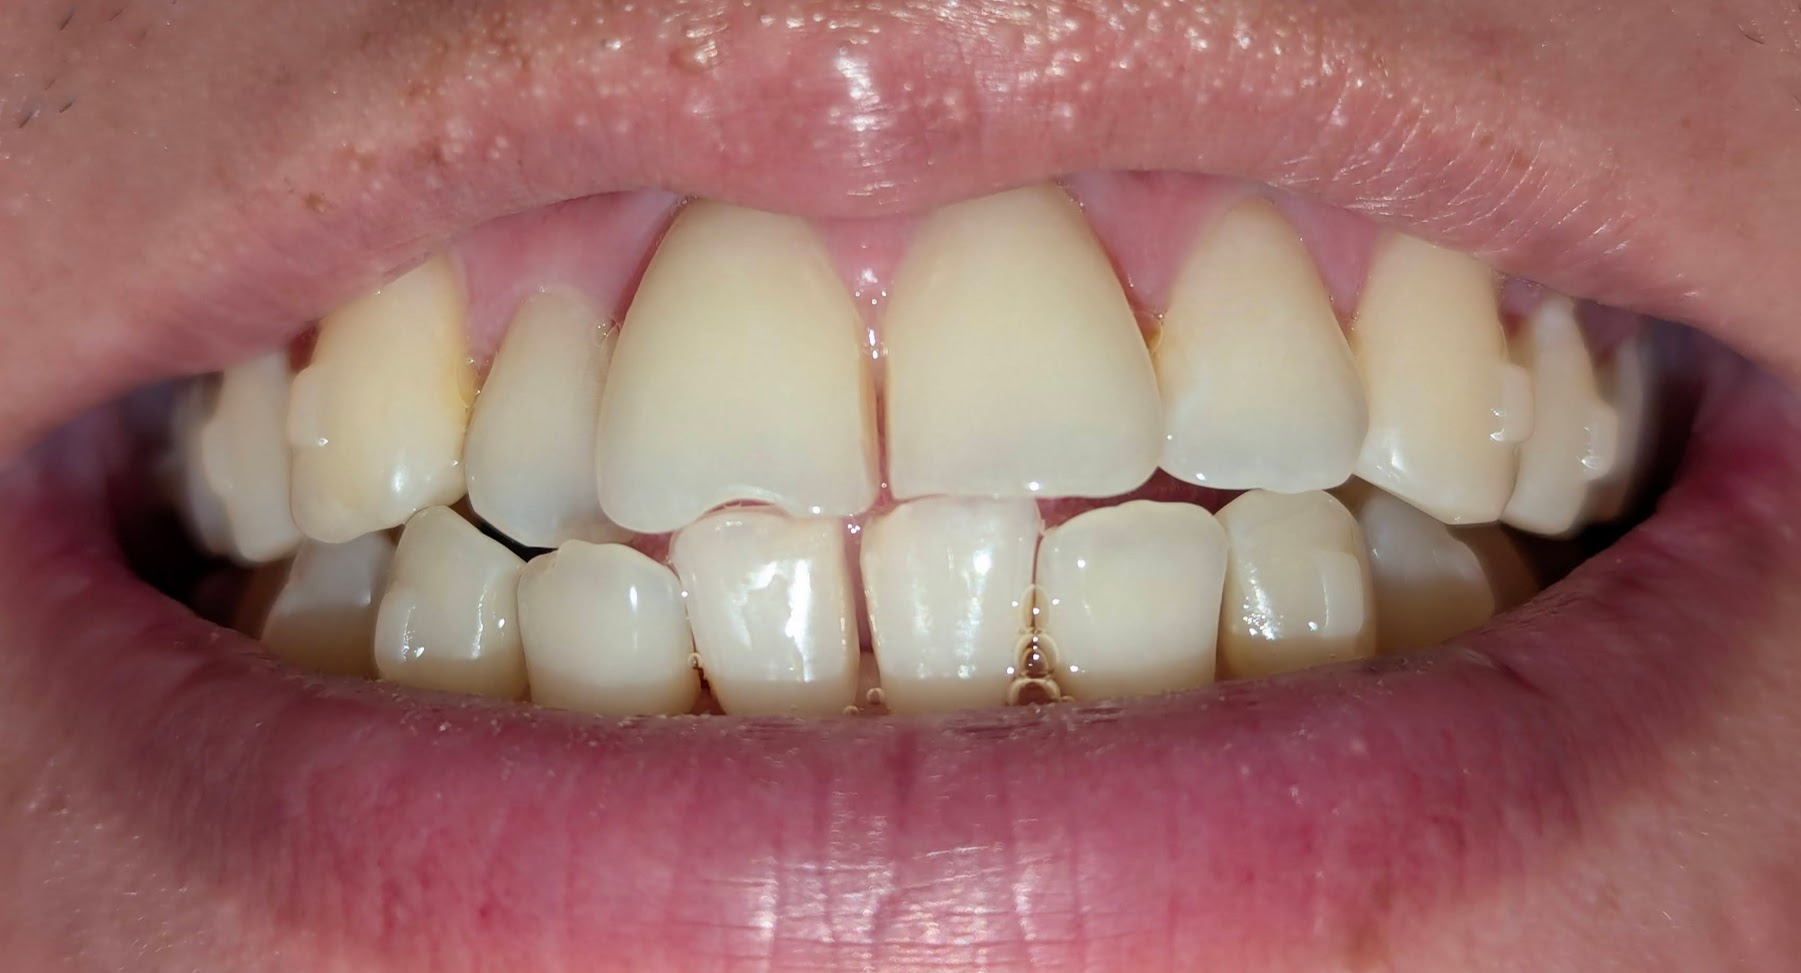teeth: (603, 200, 878, 528), (886, 186, 1164, 488), (1167, 193, 1367, 485), (297, 254, 470, 537), (1360, 234, 1521, 512), (467, 286, 617, 545), (863, 501, 1040, 705), (678, 516, 851, 715), (1038, 508, 1214, 693), (521, 548, 694, 707), (1222, 492, 1368, 673), (377, 512, 515, 690), (1366, 490, 1489, 648), (206, 353, 303, 554), (1522, 297, 1606, 526), (265, 545, 388, 670)
